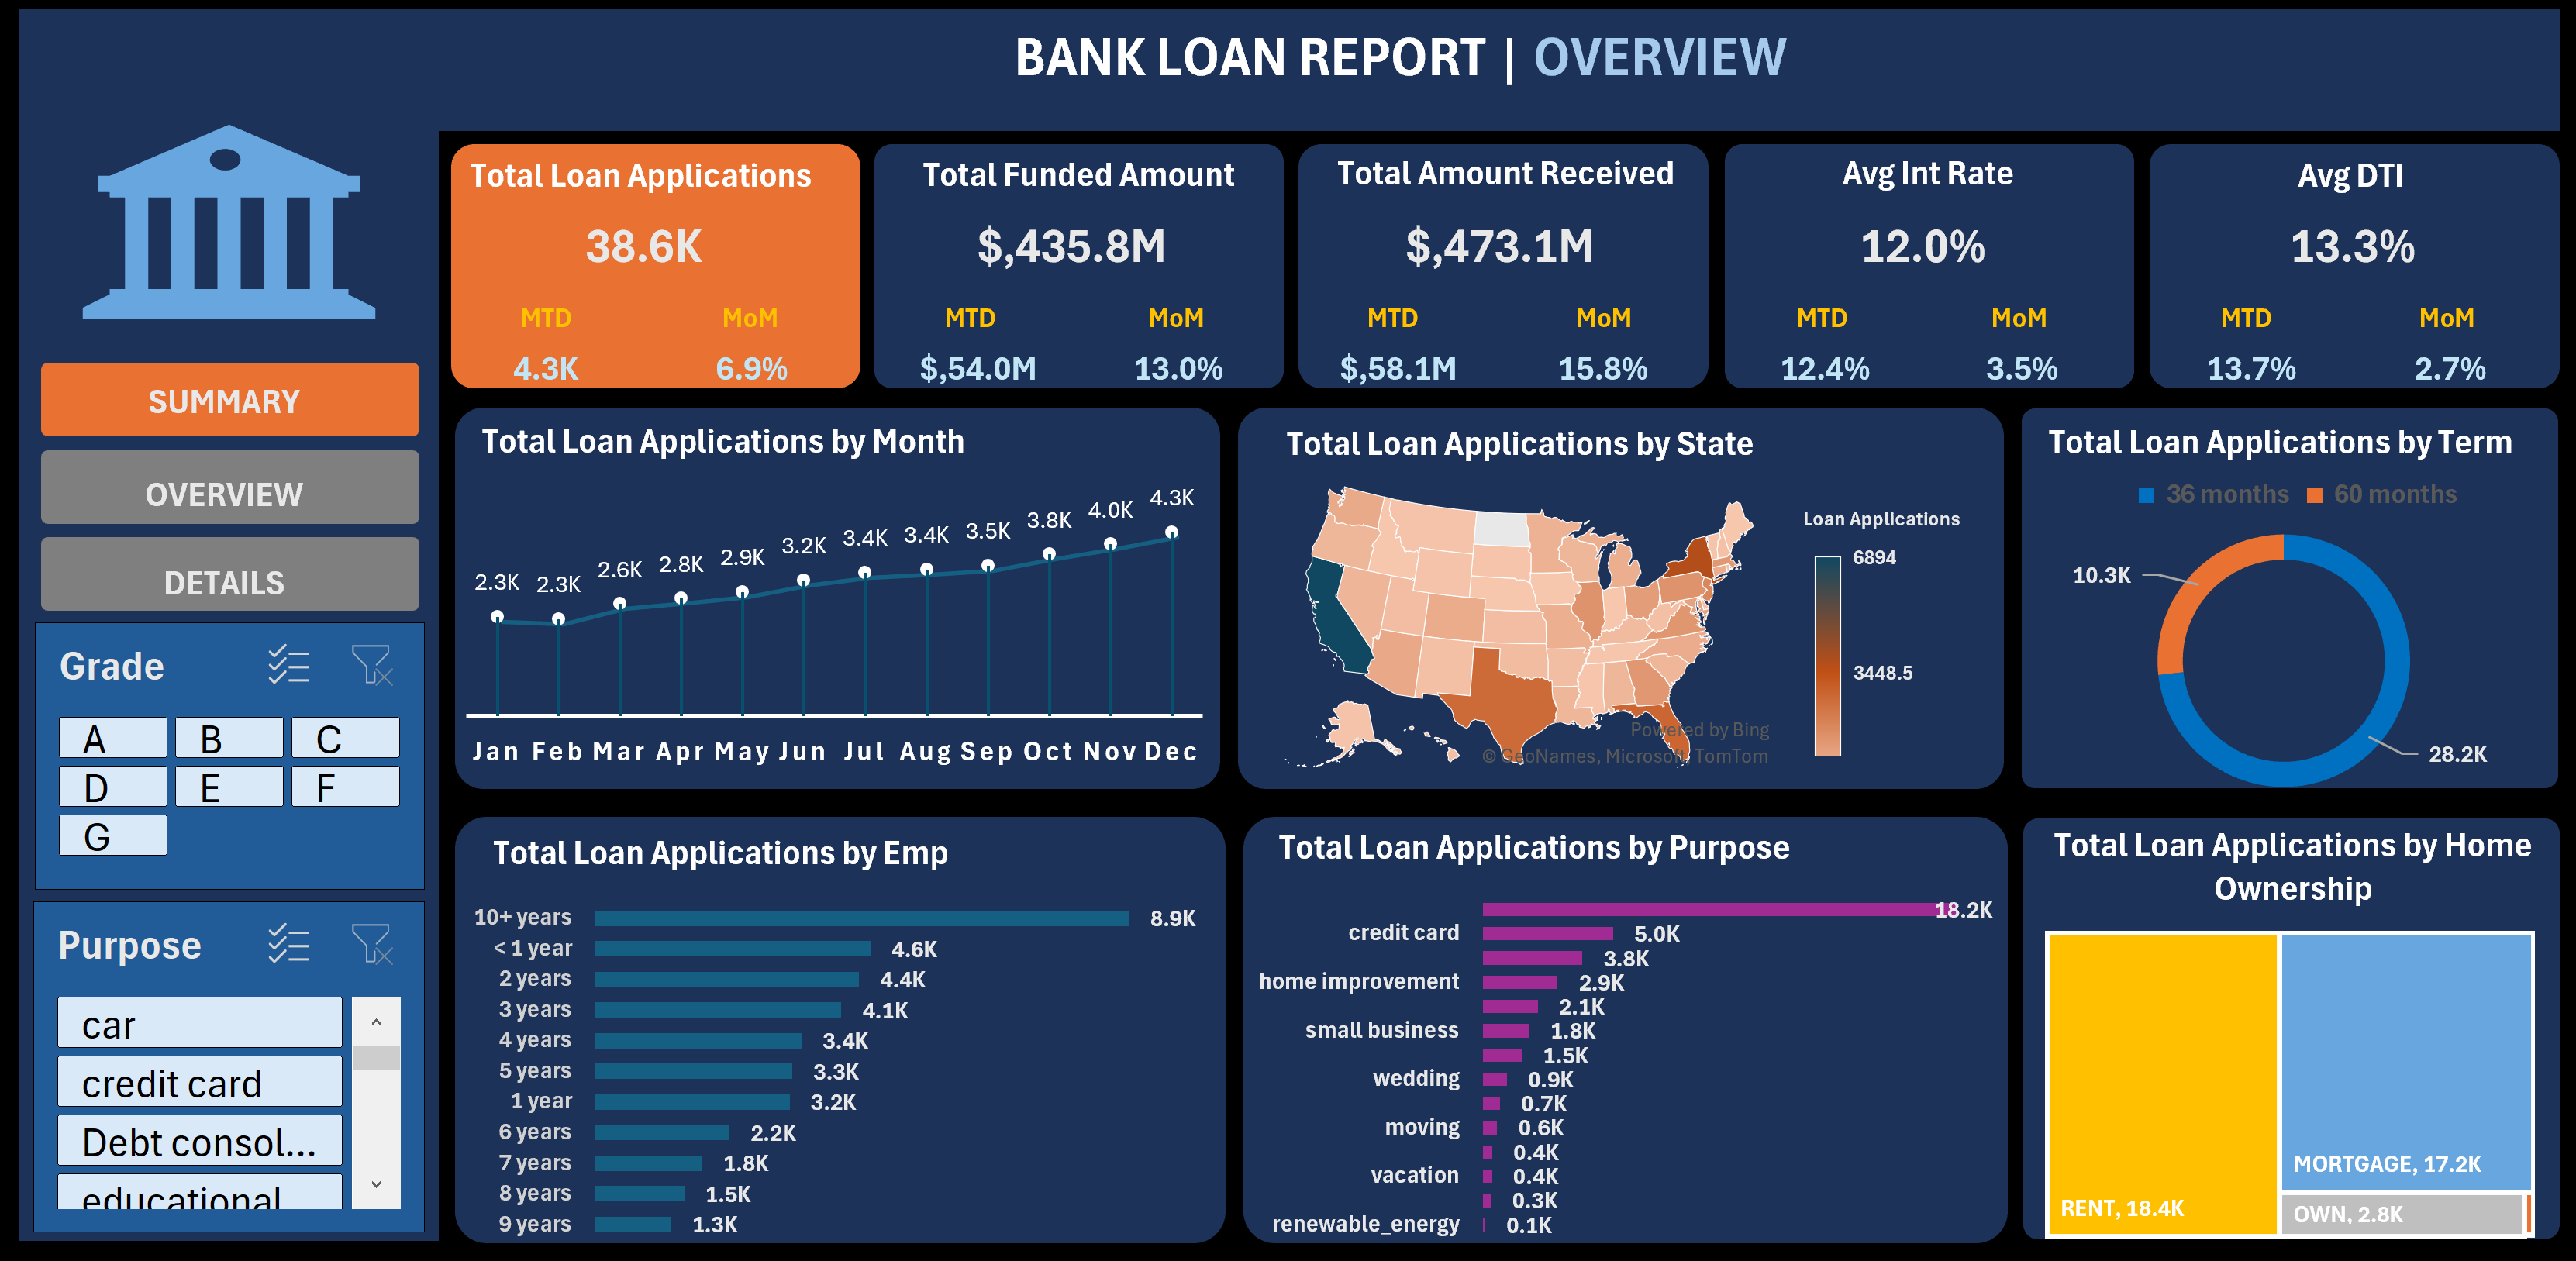

Layout of this report page (visuals, bound fields, positions):
{"tool":"tableau","page":{"name":"Overview Dashboard","canvas":[1600,900],"ordinal":1},"visuals":[{"type":"image","param":"C:/Users/JOY/Downloads/overview-01.jpg","box":[8,8,1584,884]},{"type":"text","box":[478,32,717,40]},{"type":"worksheet","title":"Total Loan Applications (Overview)","mark":"Automatic","box":[266,99,240,75]},{"type":"worksheet","title":"Total Amount Received (Overview)","mark":"Automatic","box":[793,99,245,80]},{"type":"worksheet","title":"Avg Interest Rate (Overview)","mark":"Automatic","box":[1057,99,249,78]},{"type":"worksheet","title":"Average DTI (Overview)","mark":"Automatic","box":[1325,99,244,77]},{"type":"worksheet","title":"Total Funded Amount (Overview)","mark":"Automatic","box":[528,100,242,75]},{"type":"worksheet","title":"MTD Avg Interest Rate (Overview)","mark":"Automatic","box":[1060,180,121,67]},{"type":"worksheet","title":"MoM Total Loan Applications (Overview)","mark":"Automatic","box":[392,181,115,66]},{"type":"worksheet","title":"MoM Total Amount Received (Overview)","mark":"Automatic","box":[920,181,118,63]},{"type":"worksheet","title":"MTD Total Loan Applications (Overview)","mark":"Automatic","box":[265,182,125,64]},{"type":"worksheet","title":"MTD Total Funded Amount (Overview)","mark":"Automatic","box":[527,182,125,63]},{"type":"worksheet","title":"MoM Average Interest Rate (Overview)","mark":"Automatic","box":[1185,182,121,65]},{"type":"worksheet","title":"MTD Average DTI (Overview)","mark":"Automatic","box":[1326,182,119,65]},{"type":"worksheet","title":"MoM Total Funded Amount (Overview)","mark":"Automatic","box":[656,183,115,63]},{"type":"worksheet","title":"MTD Total Amount Received (Overview)","mark":"Automatic","box":[793,183,123,64]},{"type":"worksheet","title":"MoM Average DTI (Overview)","mark":"Automatic","box":[1447,183,121,63]},{"type":"dashboard-object","box":[48,238,176,51]},{"type":"worksheet","title":"By State","mark":"Automatic","box":[767,265,459,296]},{"type":"worksheet","title":"Monthly Trends","mark":"Area","rows":["Calculation_0657287018024960","Calculation_0657287018024960"],"cols":["issue_date"],"box":[265,266,485,294]},{"type":"worksheet","title":"By Loan Term","mark":"Pie","rows":["Calculation_0282077807128601","Calculation_0282077807128601"],"box":[1247,267,321,291]},{"type":"legend","title":"By Loan Term","param":"[federated.02bapp10spx5te19axciv0uohof1].[none:term:nk]","box":[1281,300,250,24]},{"type":"dashboard-object","box":[50,311,174,51]},{"type":"dashboard-object","box":[51,384,173,52]},{"type":"parameter","param":"[Parameters].[Parameter 2]","box":[52,519,172,48]},{"type":"worksheet","title":"Loan Purpose","mark":"Automatic","rows":["purpose"],"cols":["Calculation_0657287018024960"],"box":[767,578,459,304]},{"type":"worksheet","title":"By Employee Length","mark":"Automatic","rows":["emp_length"],"cols":["Calculation_0657287018024960"],"box":[265,579,485,299]},{"type":"worksheet","title":"Home Ownership","mark":"Automatic","box":[1248,579,321,302]},{"type":"filter","title":"Monthly Trends","param":"[federated.02bapp10spx5te19axciv0uohof1].[none:purpose:nk]","box":[49,590,175,55]},{"type":"filter","title":"Monthly Trends","param":"[federated.02bapp10spx5te19axciv0uohof1].[none:verification_status:nk]","box":[50,665,176,49]},{"type":"filter","title":"Monthly Trends","param":"[federated.02bapp10spx5te19axciv0uohof1].[none:grade:nk]","box":[52,735,173,53]}]}

Visuals, with their boxes on the page's 1600x900 design canvas (x1, y1, x2, y2). These are canvas units, not pixel positions in the 2576x1261 screenshot, which may show the page scaled, cropped or inside an application window:
image: Rect(8, 8, 1592, 892)
text: Rect(478, 32, 1195, 72)
"Total Loan Applications (Overview)" worksheet: Rect(266, 99, 506, 174)
"Total Amount Received (Overview)" worksheet: Rect(793, 99, 1038, 179)
"Avg Interest Rate (Overview)" worksheet: Rect(1057, 99, 1306, 177)
"Average DTI (Overview)" worksheet: Rect(1325, 99, 1569, 176)
"Total Funded Amount (Overview)" worksheet: Rect(528, 100, 770, 175)
"MTD Avg Interest Rate (Overview)" worksheet: Rect(1060, 180, 1181, 247)
"MoM Total Loan Applications (Overview)" worksheet: Rect(392, 181, 507, 247)
"MoM Total Amount Received (Overview)" worksheet: Rect(920, 181, 1038, 244)
"MTD Total Loan Applications (Overview)" worksheet: Rect(265, 182, 390, 246)
"MTD Total Funded Amount (Overview)" worksheet: Rect(527, 182, 652, 245)
"MoM Average Interest Rate (Overview)" worksheet: Rect(1185, 182, 1306, 247)
"MTD Average DTI (Overview)" worksheet: Rect(1326, 182, 1445, 247)
"MoM Total Funded Amount (Overview)" worksheet: Rect(656, 183, 771, 246)
"MTD Total Amount Received (Overview)" worksheet: Rect(793, 183, 916, 247)
"MoM Average DTI (Overview)" worksheet: Rect(1447, 183, 1568, 246)
dashboard-object: Rect(48, 238, 224, 289)
"By State" worksheet: Rect(767, 265, 1226, 561)
"Monthly Trends" worksheet (Area marks): Rect(265, 266, 750, 560)
"By Loan Term" worksheet (Pie marks): Rect(1247, 267, 1568, 558)
"By Loan Term" legend: Rect(1281, 300, 1531, 324)
dashboard-object: Rect(50, 311, 224, 362)
dashboard-object: Rect(51, 384, 224, 436)
parameter: Rect(52, 519, 224, 567)
"Loan Purpose" worksheet: Rect(767, 578, 1226, 882)
"By Employee Length" worksheet: Rect(265, 579, 750, 878)
"Home Ownership" worksheet: Rect(1248, 579, 1569, 881)
"Monthly Trends" filter: Rect(49, 590, 224, 645)
"Monthly Trends" filter: Rect(50, 665, 226, 714)
"Monthly Trends" filter: Rect(52, 735, 225, 788)
